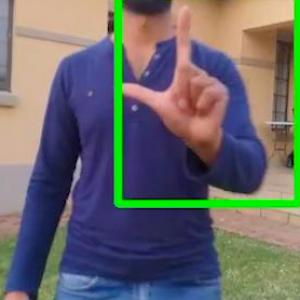land_hand: (117, 0, 234, 152)
